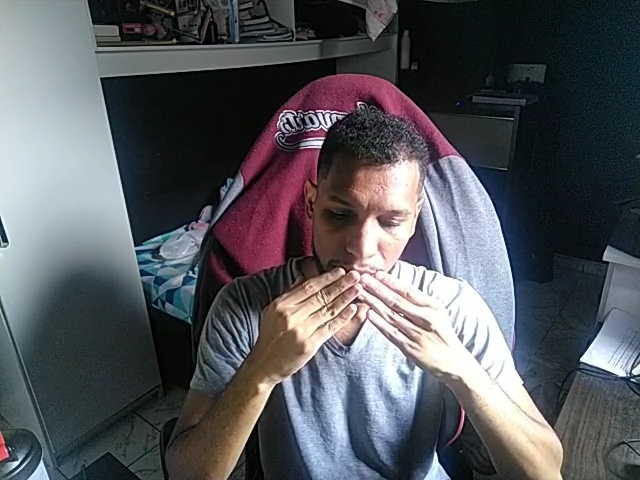obrigado: (252, 266, 461, 377)
